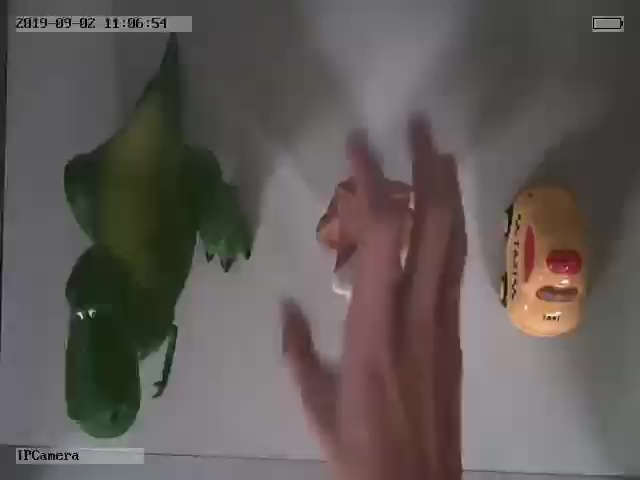car: (499, 184, 591, 335)
rex: (62, 74, 253, 441)
